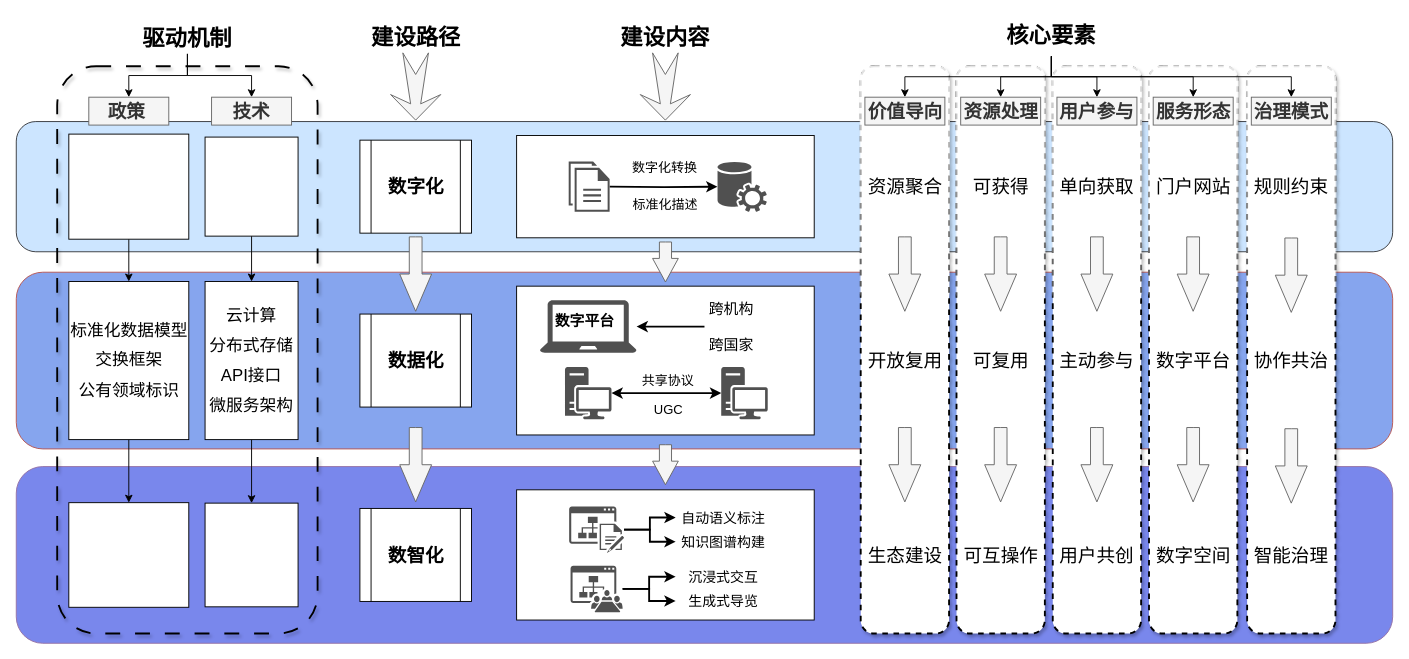
This 1409x659 diagram has some shape labels left out. The shapes that lost their labels are listed below. From the top down, each one's centre as x and y in pixels, then its label:
At pixel 128 186: "数据标准 版权协议".
At pixel 251 186: "OCR数据 3D建模".
At pixel 128 554: "数字服务 基础设施".
At pixel 251 554: "大语言模型 AI算法".
